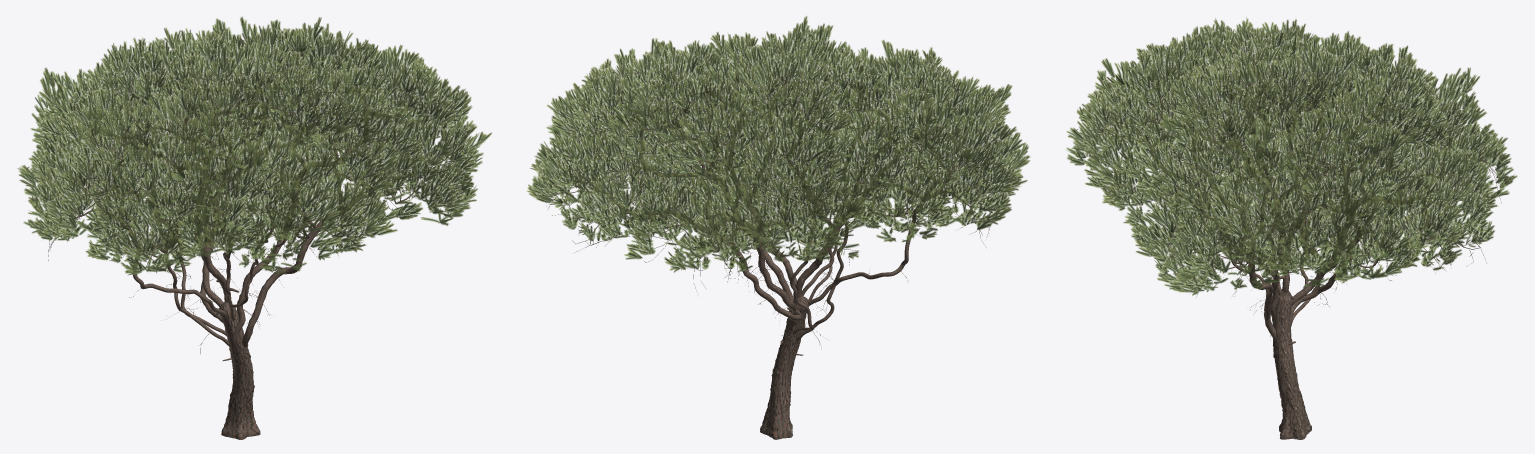
The model's file is tree_pine_hero.glb.
The picture shows the model from 3 angles, left to right: view 1: azimuth 30°, elevation 25°; view 2: azimuth 150°, elevation 25°; view 3: azimuth 270°, elevation 25°; orthographic projection. The views are drawn at different scales.
Parts seen in each view (by area): view 1: mx_tree_pine_hero; view 2: mx_tree_pine_hero; view 3: mx_tree_pine_hero.
Part boxes in pixels (bbox=[...]): mx_tree_pine_hero: bbox=[17, 16, 491, 439]; mx_tree_pine_hero: bbox=[526, 16, 1030, 439]; mx_tree_pine_hero: bbox=[1066, 17, 1517, 439].
Bounding box in the file's own units: 16.57 × 14.14 × 15.3.
Materials: 2 (2 with a texture image).
